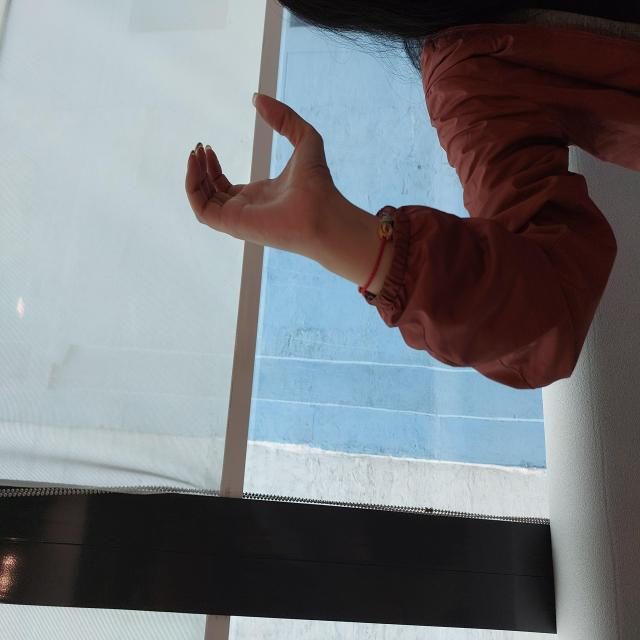C: (384, 182, 552, 334)
